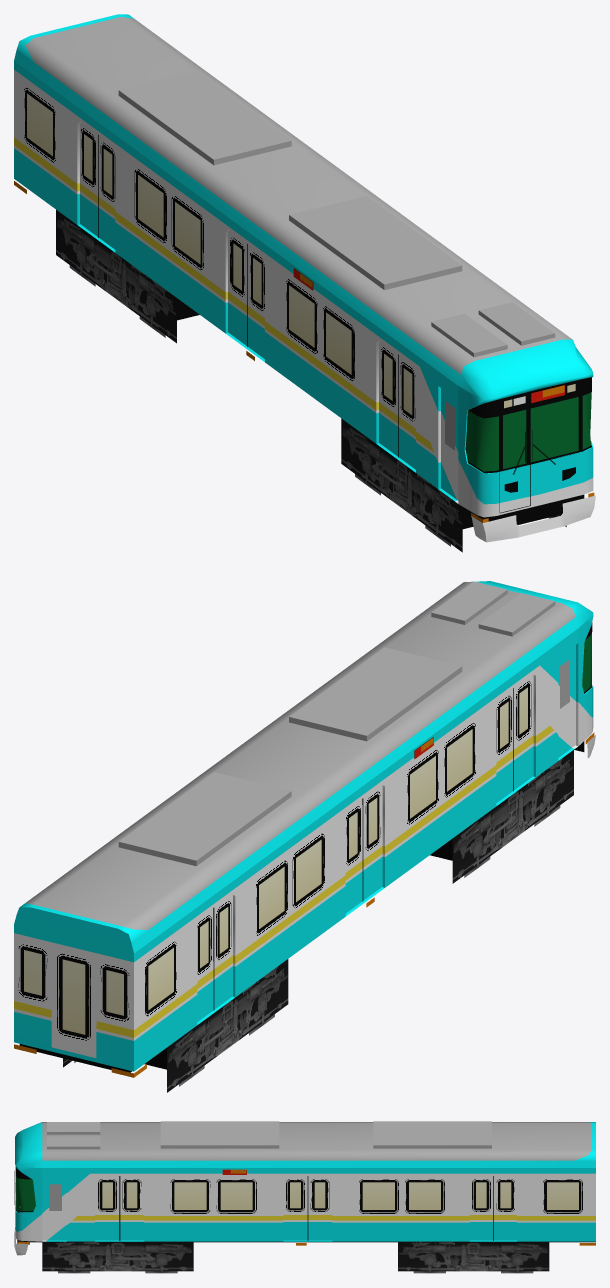
3 views of the same model, one above another, from view 1: azimuth 30°, elevation 25°; view 2: azimuth 150°, elevation 25°; view 3: azimuth 270°, elevation 25° (orthographic). The views are drawn at different scales.
Parts seen in each view (by area): view 1: BODY; view 2: BODY; view 3: BODY.
Part boxes in pixels (x1=…): BODY: x1=14, y1=14, x2=595, y2=552; BODY: x1=14, y1=581, x2=595, y2=1092; BODY: x1=14, y1=1121, x2=595, y2=1273.
Size of the model in its own units: 5.39 by 8.48 by 35.99.
Materials: 14 (12 with a texture image).
